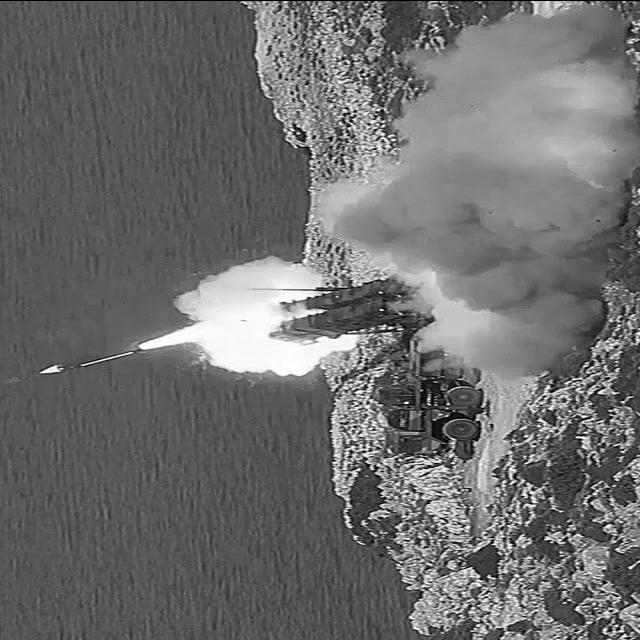missile: (27, 335, 158, 380)
